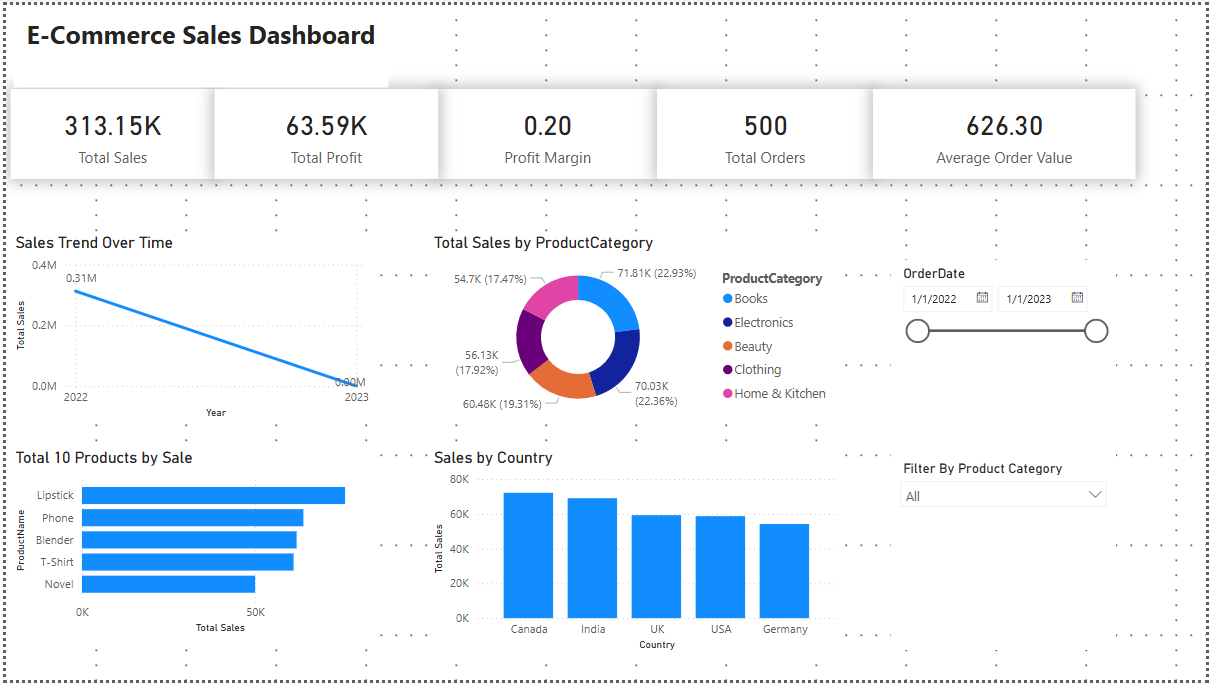

What the dashboard file says about the page in this screenshot:
{"tool":"powerbi","page":{"name":"Page 1","canvas":[1280,720],"ordinal":0},"visuals":[{"type":"card","title":"Total Sales","fields":{"Values":["ecommerce_sales_data.Total Sales"]},"box":[4.1,90,217.9,96],"z":0},{"type":"card","fields":{"Values":["ecommerce_sales_data.Profit Margin"]},"box":[460.6,90,233.8,96],"z":1000},{"type":"card","fields":{"Values":["ecommerce_sales_data.Total Profit"]},"box":[222,90,238.6,96],"z":2000},{"type":"card","fields":{"Values":["ecommerce_sales_data.Total Orders"]},"box":[694.4,90,230.6,96],"z":3000},{"type":"card","fields":{"Values":["ecommerce_sales_data.Average Order Value"]},"box":[925,90,279.9,96],"z":4000},{"type":"lineChart","title":"Sales Trend Over Time","fields":{"Category":["ecommerce_sales_data.OrderDate.Variation.Date Hierarchy.Year","ecommerce_sales_data.OrderDate.Variation.Date Hierarchy.Quarter","ecommerce_sales_data.OrderDate.Variation.Date Hierarchy.Month","ecommerce_sales_data.OrderDate.Variation.Date Hierarchy.Day"],"Y":["ecommerce_sales_data.Total Sales"]},"box":[4.1,243,386.8,202.5],"z":5000},{"type":"clusteredBarChart","title":"Total 10 Products by Sale","fields":{"Category":["ecommerce_sales_data.ProductName"],"Y":["ecommerce_sales_data.Total Sales"]},"box":[4,471.5,387,203],"z":6000},{"type":"donutChart","fields":{"Category":["ecommerce_sales_data.ProductCategory"],"Y":["ecommerce_sales_data.Total Sales"]},"box":[450.6,243,439.5,202.5],"z":7000},{"type":"clusteredColumnChart","title":"Sales by Country","fields":{"Category":["ecommerce_sales_data.Country"],"Y":["ecommerce_sales_data.Total Sales"]},"box":[450.7,471.5,439.5,220.8],"z":8000},{"type":"slicer","fields":{"Values":["ecommerce_sales_data.OrderDate"]},"box":[944,272,240,208],"z":9000},{"type":"slicer","fields":{"Values":["ecommerce_sales_data.ProductCategory"]},"box":[944,480,240,208],"z":10000},{"type":"textbox","box":[8,8,400,80],"z":11000}]}

Visuals, with their boxes in screenshot pixels (x1, y1, x2, y2), scaled from the page's 1280x720 canvas onto the 1210x684 screenshot:
"Total Sales" card: region(4, 86, 210, 177)
card - ecommerce_sales_data.Profit Margin: region(435, 86, 656, 177)
card - ecommerce_sales_data.Total Profit: region(210, 86, 435, 177)
card - ecommerce_sales_data.Total Orders: region(656, 86, 874, 177)
card - ecommerce_sales_data.Average Order Value: region(874, 86, 1139, 177)
"Sales Trend Over Time" lineChart: region(4, 231, 370, 423)
"Total 10 Products by Sale" clusteredBarChart: region(4, 448, 370, 641)
donutChart - ecommerce_sales_data.ProductCategory x ecommerce_sales_data.Total Sales: region(426, 231, 841, 423)
"Sales by Country" clusteredColumnChart: region(426, 448, 842, 658)
slicer - ecommerce_sales_data.OrderDate: region(892, 258, 1119, 456)
slicer - ecommerce_sales_data.ProductCategory: region(892, 456, 1119, 654)
textbox: region(8, 8, 386, 84)
